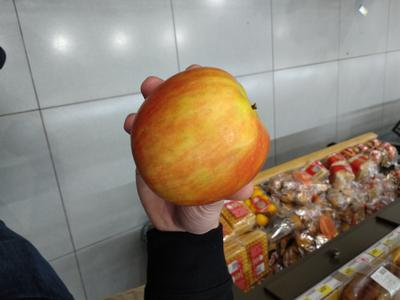apple: (0, 0, 400, 300)
